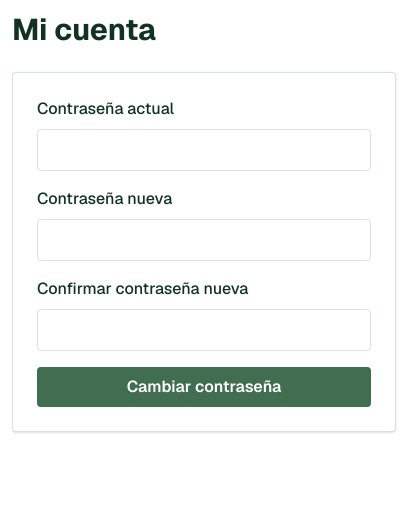
Test: AccountPage › muestra una confirmación visible cuando el cambio es exitoso
Type "current-pass" into the password field labelled "Contraseña actual" at (204, 150), box [37, 129, 371, 171]
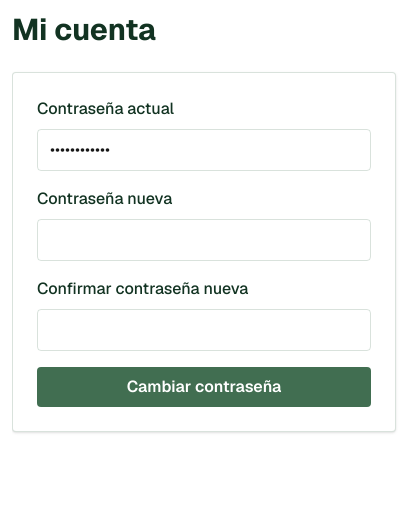
Type "newpassword123" into the password field labelled "Contraseña nueva" at (204, 240), box [37, 219, 371, 261]
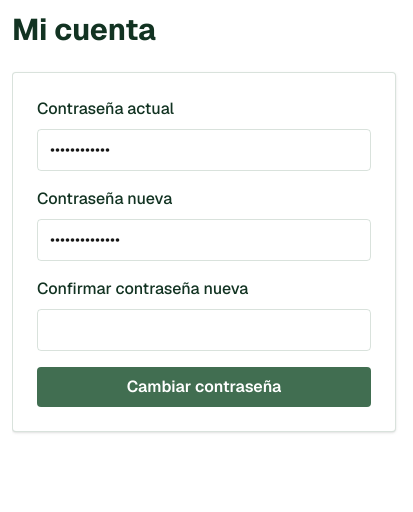
Type "newpassword123" into the password field labelled "Confirmar contraseña nueva" at (204, 330), box [37, 309, 371, 351]
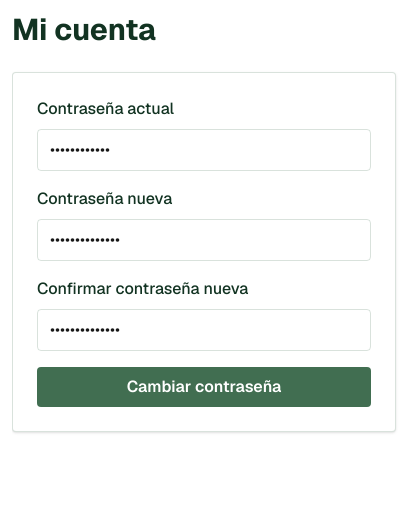
Click the button "Cambiar contraseña" at (204, 387), box [37, 367, 371, 407]
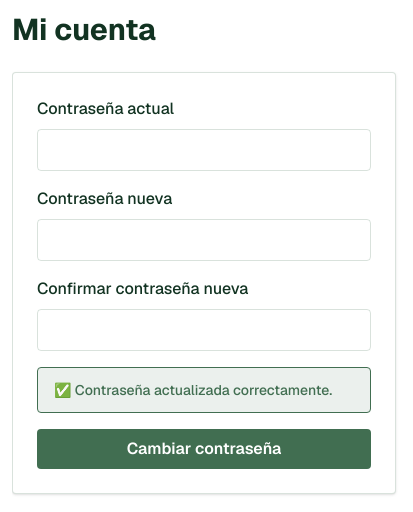
Check: the message shows "actualizada correctamente", box [54, 381, 332, 399]
